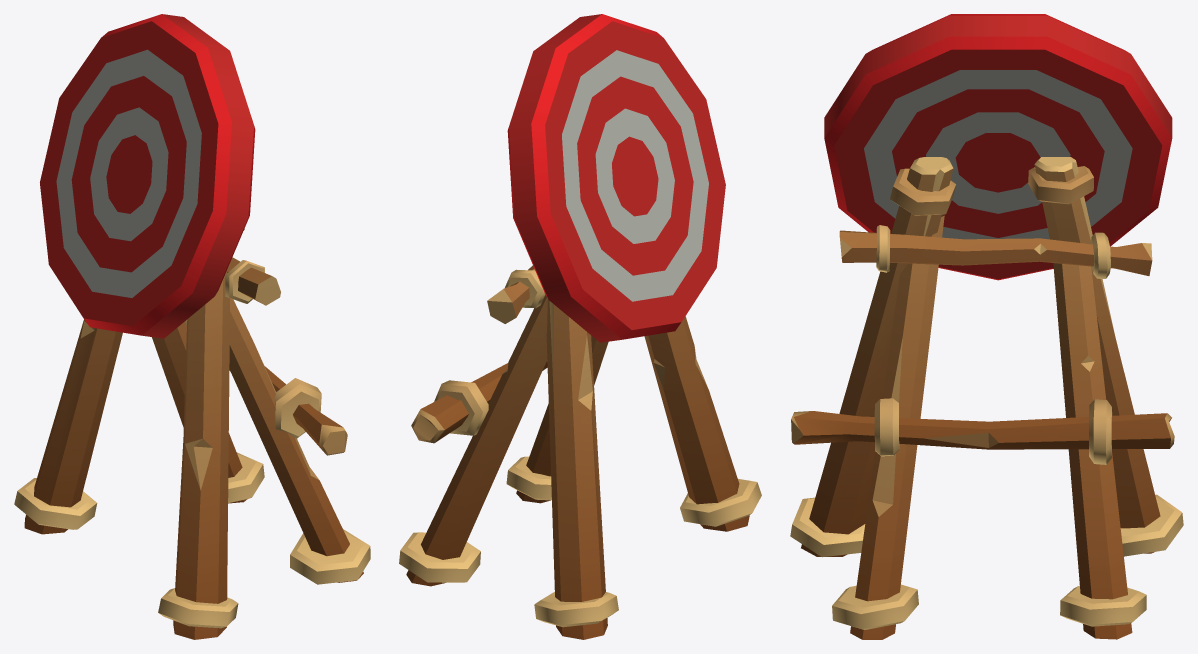
Rendered from PracticeTarget_2_C.glb.
3 renders of one model, left to right at view 1: azimuth 30°, elevation 25°; view 2: azimuth 150°, elevation 25°; view 3: azimuth 270°, elevation 25°, orthographic. The views are drawn at different scales.
Parts seen in each view (by area): view 1: PracticeTarget_2_C; view 2: PracticeTarget_2_C; view 3: PracticeTarget_2_C.
Part boxes in pixels (box(x1,y1,x2,y2)): PracticeTarget_2_C: box(14, 14, 370, 639); PracticeTarget_2_C: box(399, 14, 761, 639); PracticeTarget_2_C: box(790, 14, 1183, 639).
Bounding box in the file's own units: 0.5897 × 1.32 × 0.8367.
Materials: 1 (1 with a texture image).
